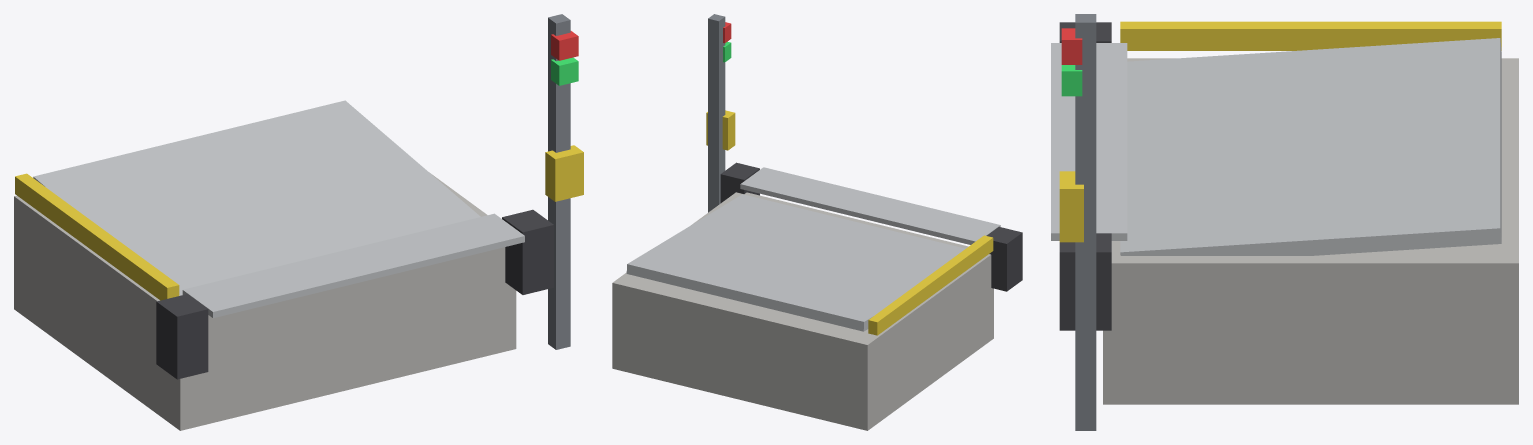
The model's file is SM_DOCK_LEVELLER.fbx.
3 views of the same model, side by side, from view 1: azimuth 30°, elevation 25°; view 2: azimuth 150°, elevation 25°; view 3: azimuth 270°, elevation 25° (orthographic). The views are drawn at different scales.
Visible parts, largest first — view 1: SM_DOCK_LEVELLER; view 2: SM_DOCK_LEVELLER; view 3: SM_DOCK_LEVELLER.
Part boxes in pixels (bbox=[...]): SM_DOCK_LEVELLER: bbox=[14, 14, 583, 430]; SM_DOCK_LEVELLER: bbox=[612, 14, 1022, 430]; SM_DOCK_LEVELLER: bbox=[1051, 14, 1518, 430].
Bounding box in the file's own units: 339 × 260 × 270.
